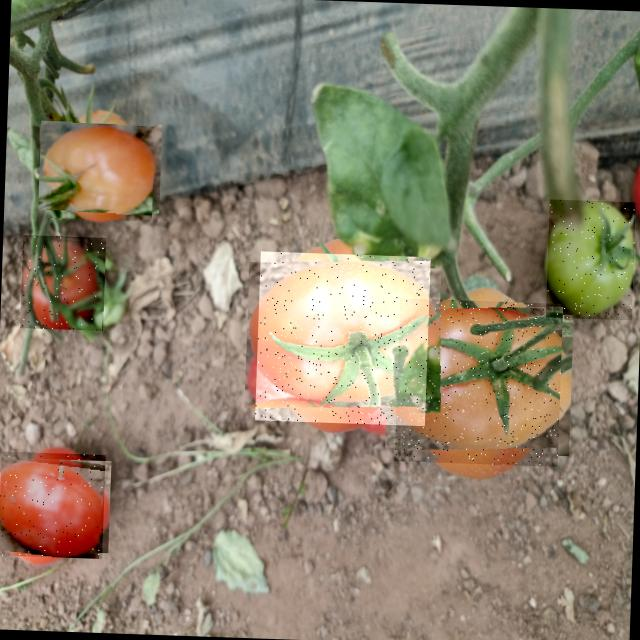Ripe Tomato: (254, 251, 430, 426), (394, 298, 563, 467), (45, 112, 155, 221), (0, 451, 105, 559), (20, 234, 106, 330)
Unripe Tomato: (546, 199, 636, 320)
